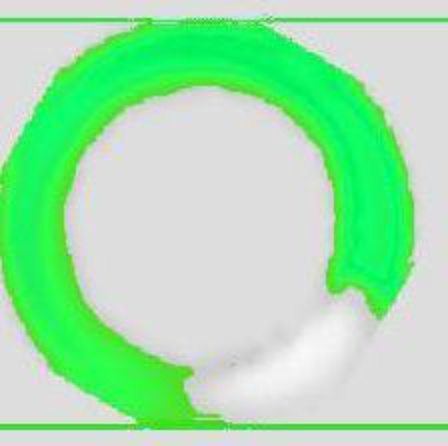ProgressBar: (1, 1, 447, 445)
